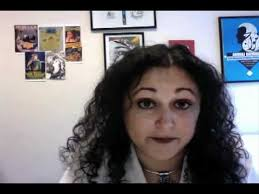middle_eastern_Female: (109, 59, 212, 152)
